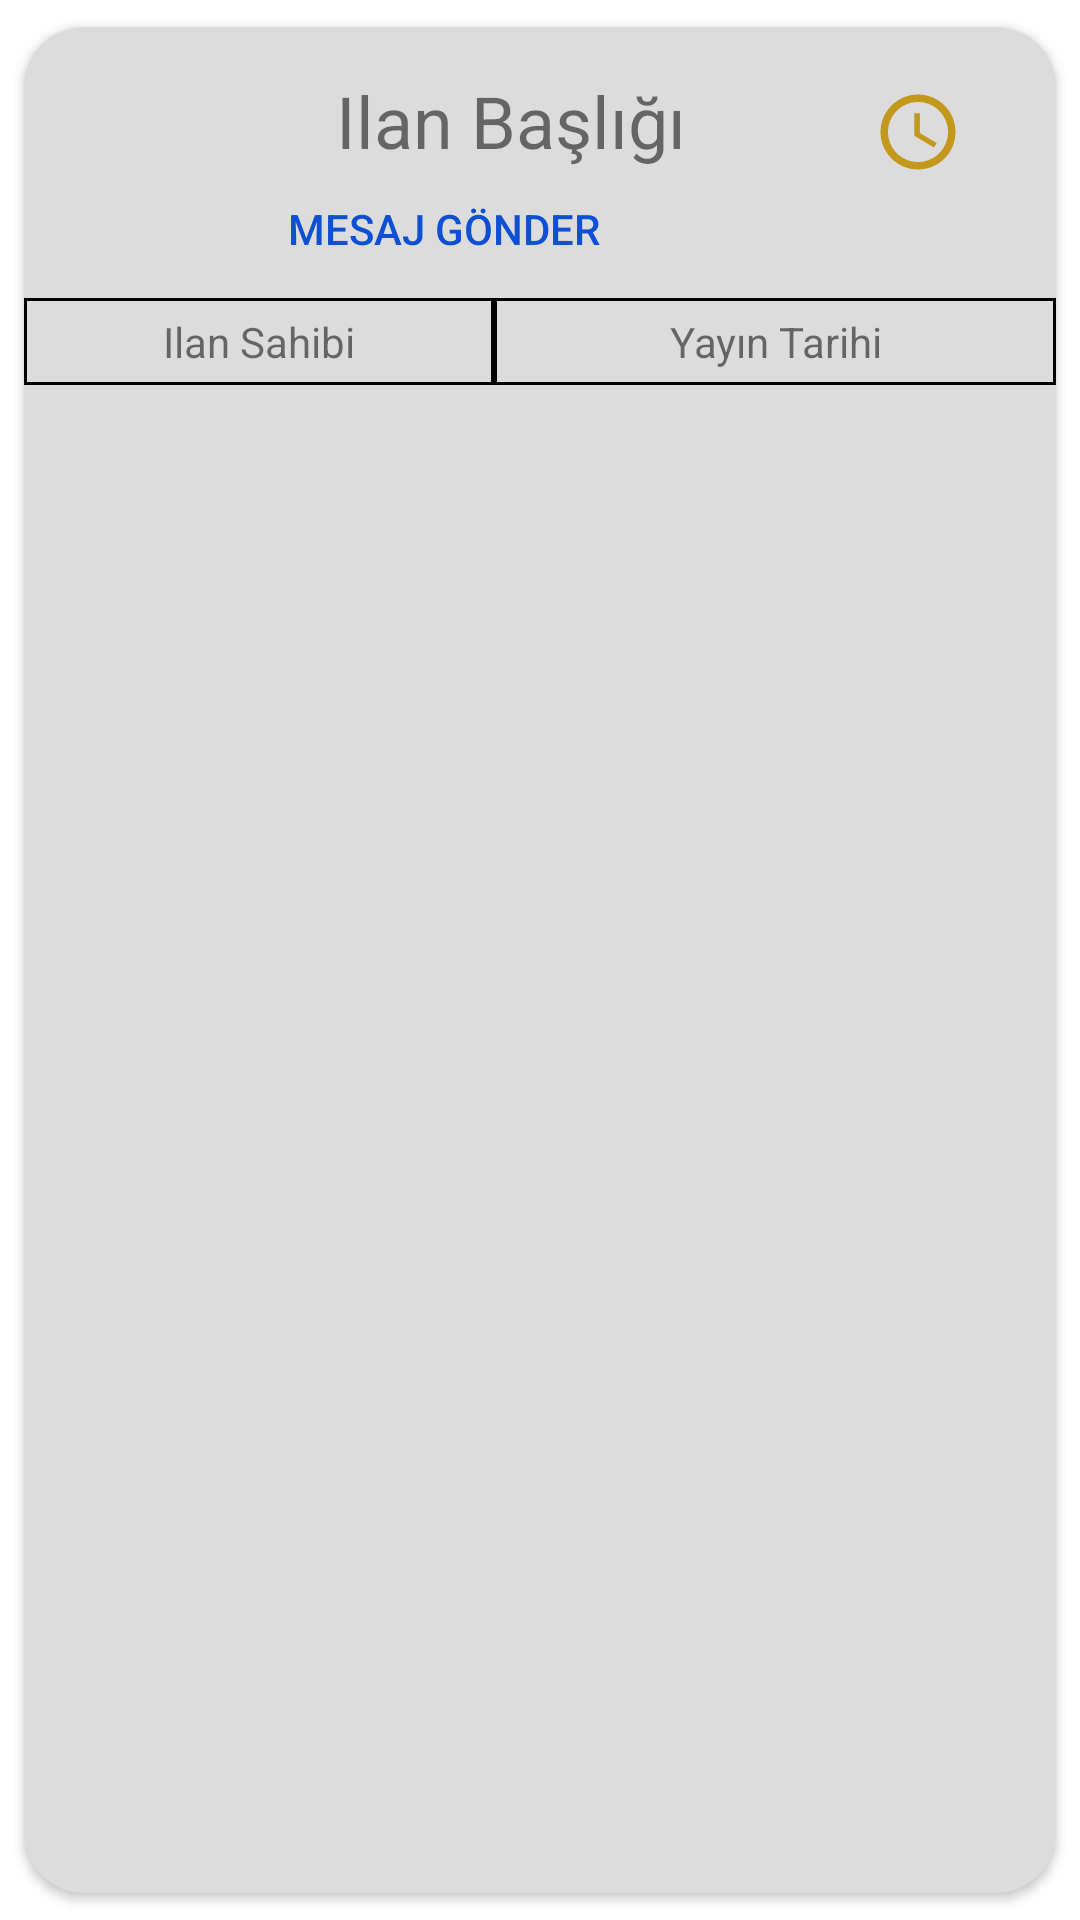

Icons on this 1080x1920 Android screen, each with the point to tap as [x,y]:
notification time: [918,132]
